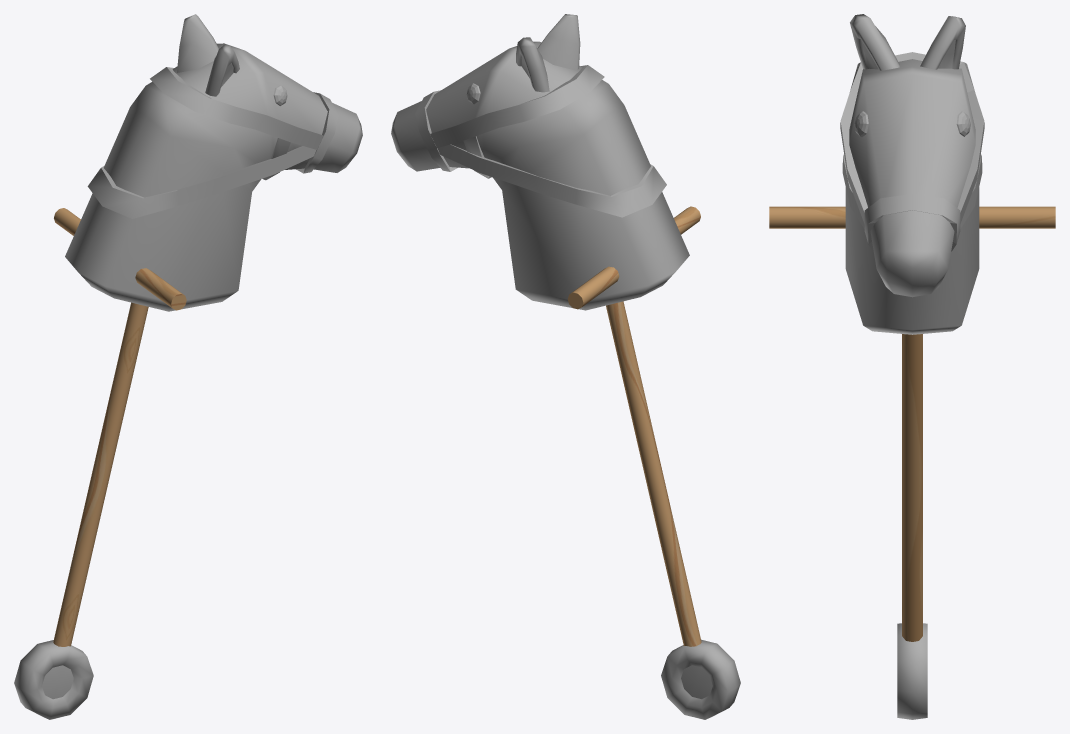
The model's file is horse.fbx.
The picture shows the model from 3 angles, left to right: view 1: azimuth 30°, elevation 25°; view 2: azimuth 150°, elevation 25°; view 3: azimuth 270°, elevation 25°; orthographic projection. The views are drawn at different scales.
Parts seen in each view (by area): view 1: horse2; view 2: horse2; view 3: horse2.
Boxes of the visible parts, <box> form: horse2: <box>14,14,362,719</box>; horse2: <box>391,14,740,719</box>; horse2: <box>769,14,1055,719</box>.
Size of the model in its own units: 0.5639 by 1.02 by 0.3347.
